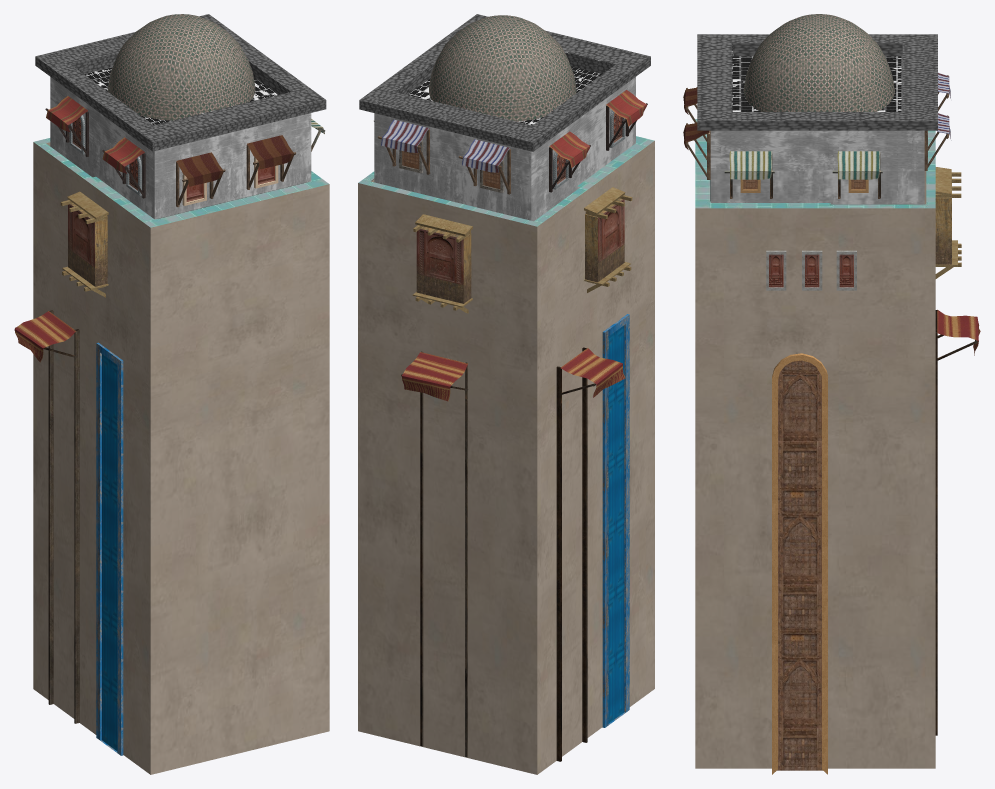
Rendered from medina_cityscape_daar_04_2.gltf.
The picture shows the model from 3 angles, left to right: view 1: azimuth 30°, elevation 25°; view 2: azimuth 150°, elevation 25°; view 3: azimuth 270°, elevation 25°; orthographic projection. The views are drawn at different scales.
Visible parts, largest first — view 1: medina_cityscape_daar_04_2; view 2: medina_cityscape_daar_04_2; view 3: medina_cityscape_daar_04_2.
Part boxes in pixels (x1=…): medina_cityscape_daar_04_2: x1=14, y1=14, x2=329, y2=774; medina_cityscape_daar_04_2: x1=358, y1=14, x2=654, y2=774; medina_cityscape_daar_04_2: x1=683, y1=14, x2=980, y2=774.
Bounding box in the file's own units: 4.07 × 11.59 × 4.41.
Materials: 16 (16 with a texture image).
